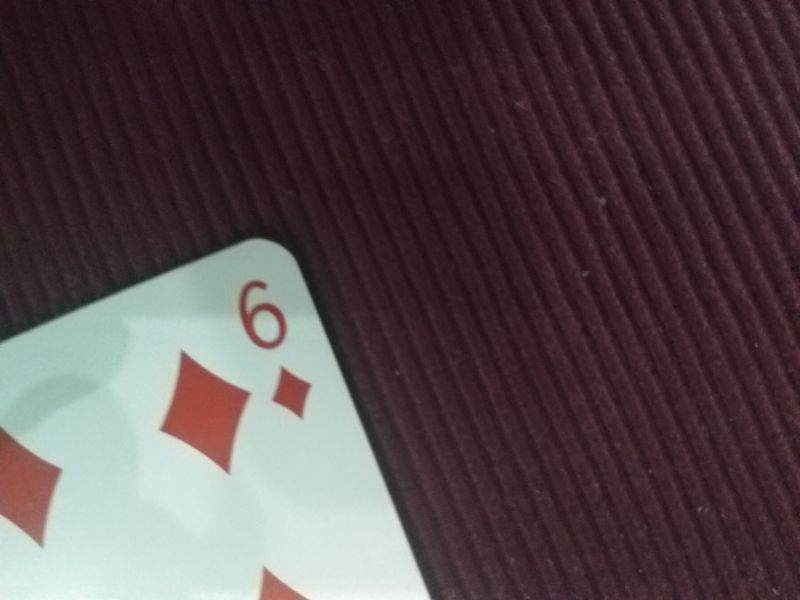6d: (231, 275, 317, 426)
